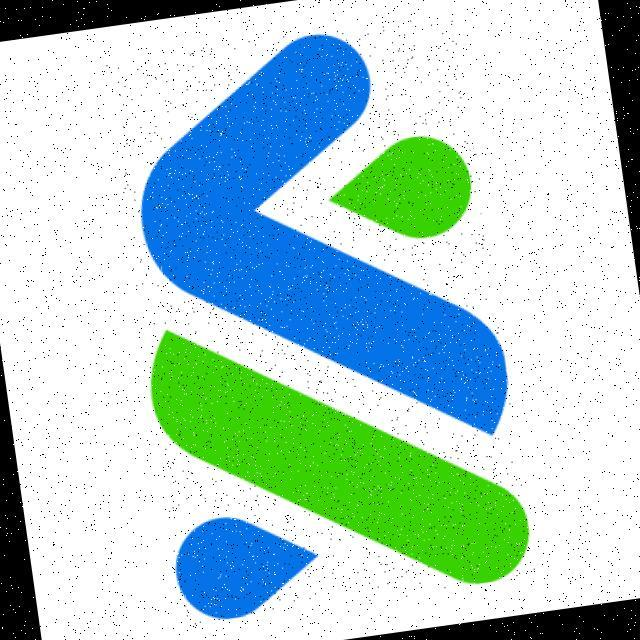Standard Chartered: (104, 12, 536, 629)
